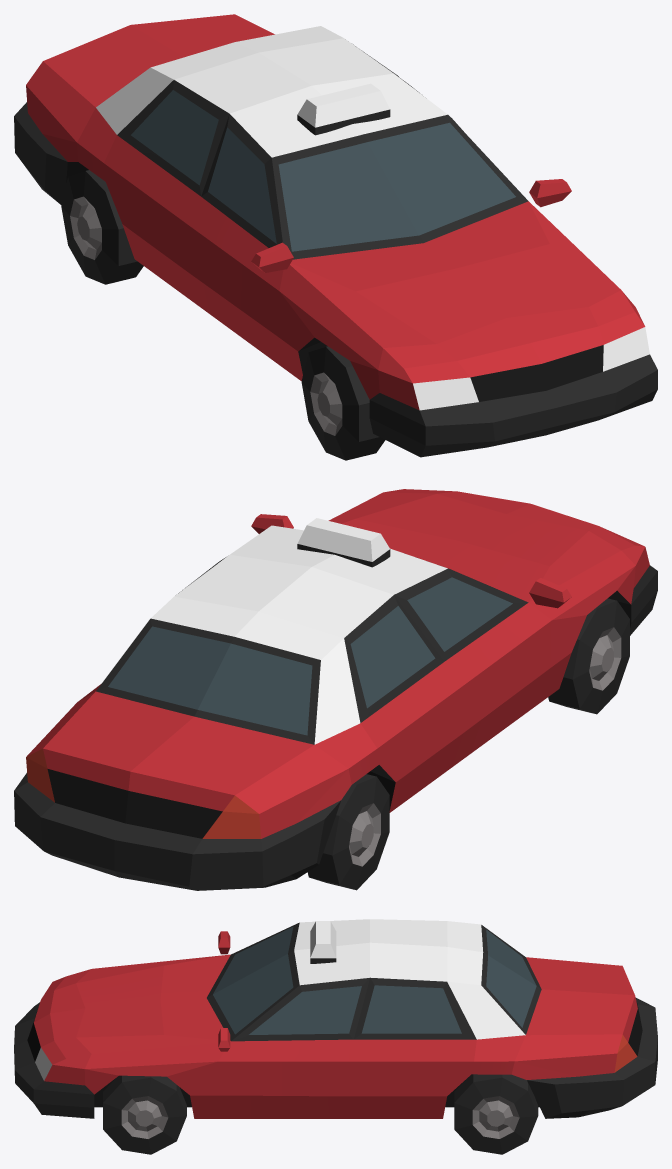
File: vehicles_car-taxi-china.fbx
The picture shows the model from 3 angles, top to bottom: view 1: azimuth 30°, elevation 25°; view 2: azimuth 150°, elevation 25°; view 3: azimuth 270°, elevation 25°; orthographic projection. The views are drawn at different scales.
Visible parts, largest first — view 1: car_taxi_china_base, car_taxi_china_wheel_FR, car_taxi_china_wheel_BR; view 2: car_taxi_china_base, car_taxi_china_wheel_BR, car_taxi_china_wheel_FR; view 3: car_taxi_china_base, car_taxi_china_wheel_BL, car_taxi_china_wheel_FL.
Part boxes in pixels (x1,y1,x2,y2): car_taxi_china_base: (14,14,657,457); car_taxi_china_wheel_FR: (301,346,385,460); car_taxi_china_wheel_BR: (61,170,143,284); car_taxi_china_base: (14,489,657,890); car_taxi_china_wheel_BR: (307,774,389,890); car_taxi_china_wheel_FR: (548,598,629,714); car_taxi_china_base: (14,919,657,1118); car_taxi_china_wheel_BL: (454,1074,538,1154); car_taxi_china_wheel_FL: (103,1075,186,1154).
Size of the model in its own units: 81.99 by 59.64 by 200.
